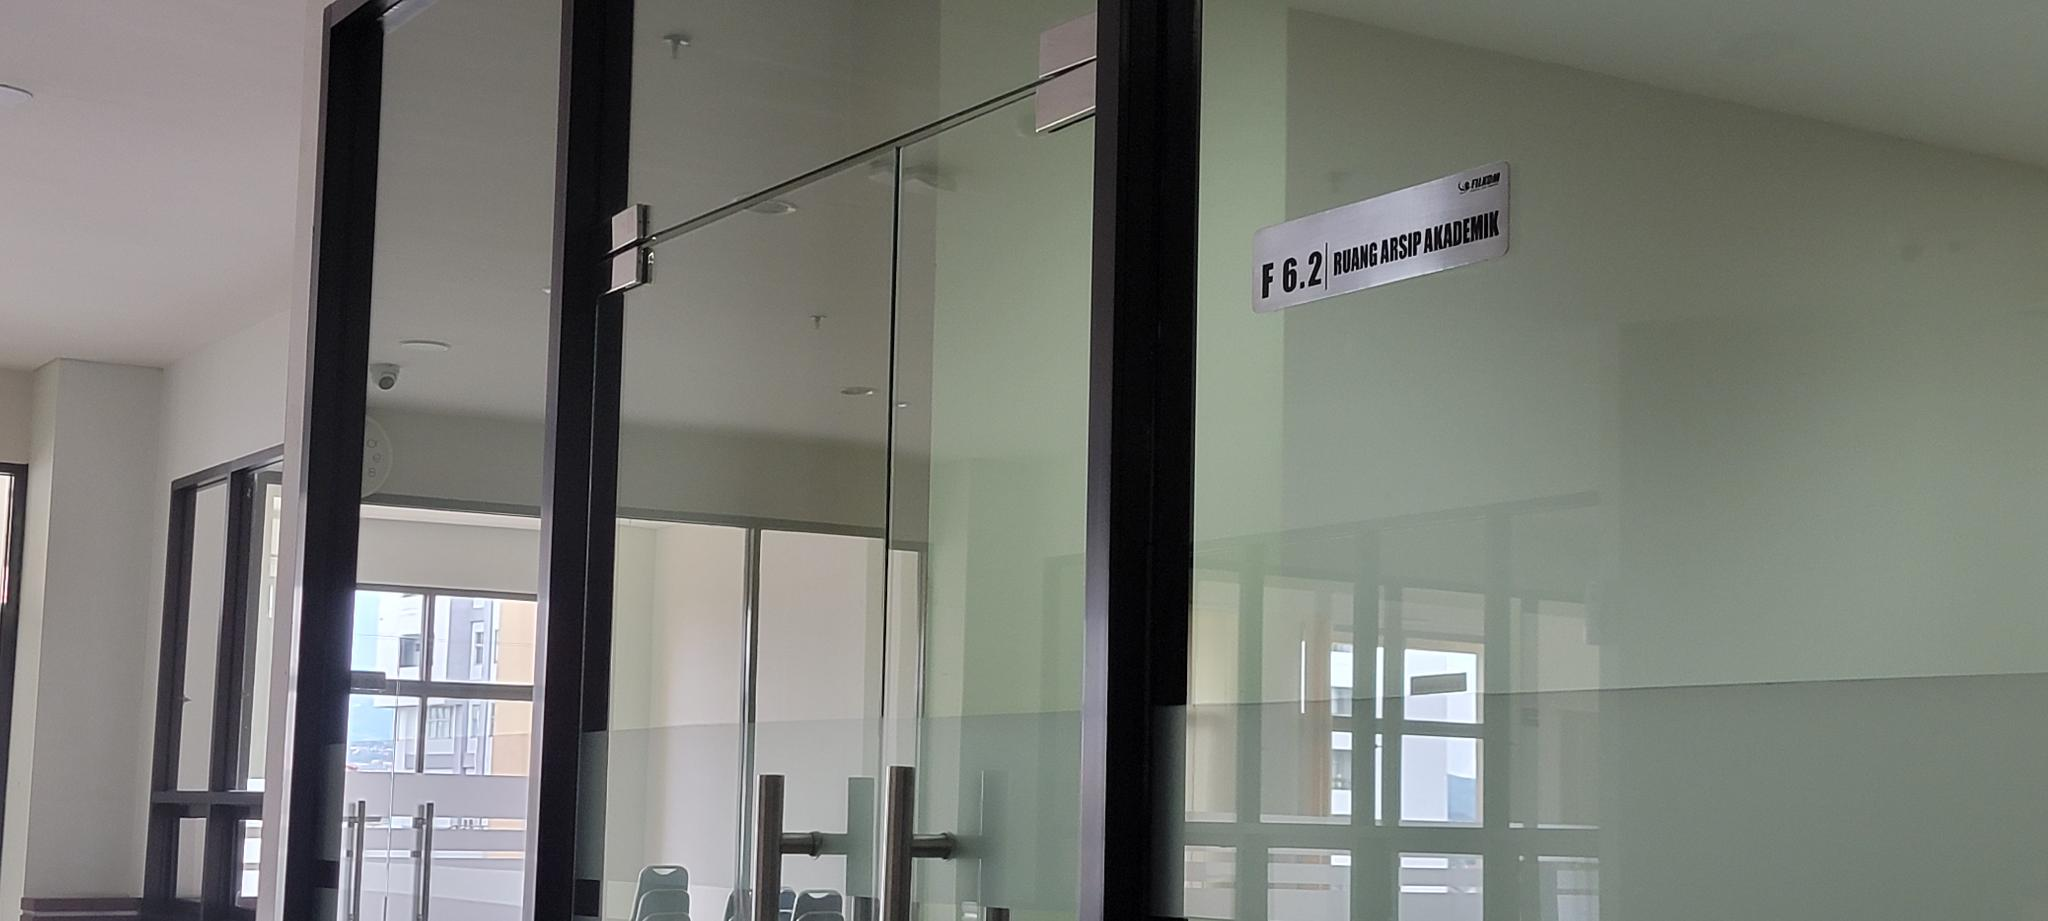plate: (1251, 158, 1510, 316)
